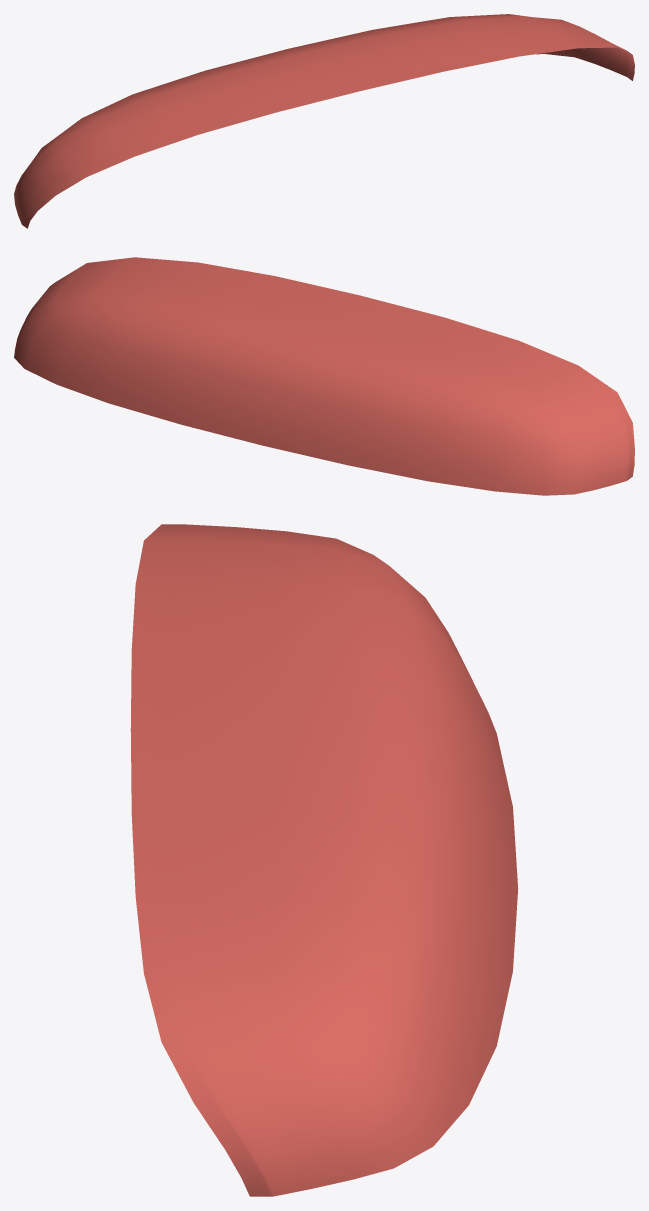
The model's file is body_01.fbx.
3 renders of one model, top to bottom at view 1: azimuth 30°, elevation 25°; view 2: azimuth 150°, elevation 25°; view 3: azimuth 270°, elevation 25°, orthographic. The views are drawn at different scales.
Parts seen in each view (by area): view 1: body_01; view 2: body_01; view 3: body_01.
Part boxes in pixels (bbox=[...]): body_01: bbox=[14, 14, 634, 228]; body_01: bbox=[14, 257, 634, 495]; body_01: bbox=[130, 524, 517, 1196].
Bounding box in the file's own units: 86.51 × 11.72 × 23.98.
